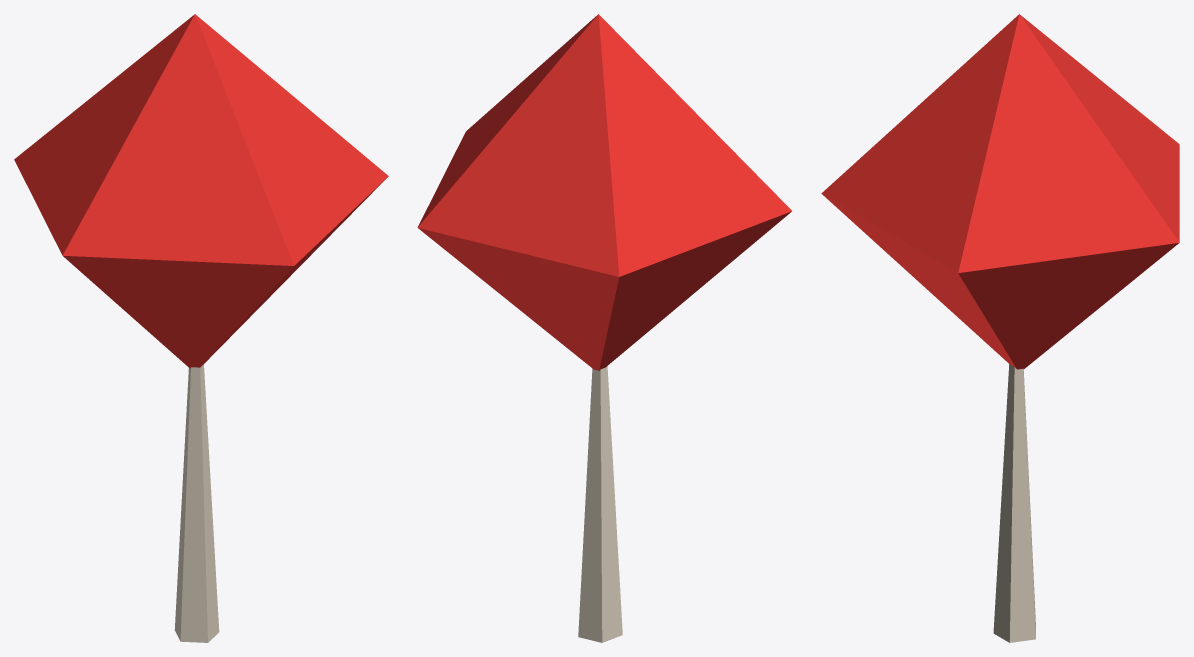
File: land_tree_toy_lollipop_red_far.glb
3 views of the same model, side by side, from view 1: azimuth 30°, elevation 25°; view 2: azimuth 150°, elevation 25°; view 3: azimuth 270°, elevation 25° (orthographic).
Size of the model in its own units: 3.8 by 6.9 by 3.62.
